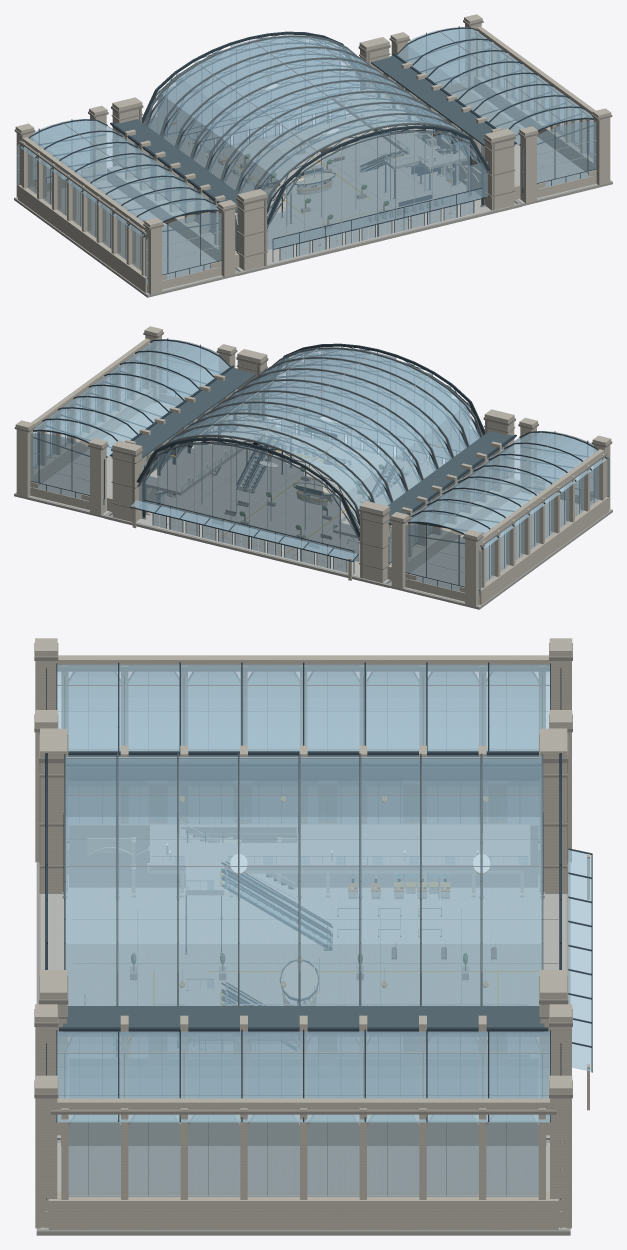
Rendered from RAIL02_lod2.glb.
3 renders of one model, top to bottom at view 1: azimuth 30°, elevation 25°; view 2: azimuth 150°, elevation 25°; view 3: azimuth 270°, elevation 25°, orthographic. The views are drawn at different scales.
Visible parts, largest first — view 1: Roof_CurvedGlazing__glass_roof, Facade_End_Clerestory__glass_dark, Roof_Pavilion_CurvedGlass__glass_roof, Interior_Stone_Floor__floor, Facade_Pavilion_Gables__glass_dark, Structure_Outer_Pavilion_Towers__stone, Interior_SidePavilion_Floor__floor, Roof_MainVault_Ribs__steel, Structure_SidePavilion_Piers__stone, Structure_Stone_Towers__stone, Roof_Wing_Coping__roof, Facade_Pavilion_SideGlazing__glass (+35 smaller); view 2: Roof_CurvedGlazing__glass_roof, Facade_End_Clerestory__glass_dark, Roof_Pavilion_CurvedGlass__glass_roof, Interior_Stone_Floor__floor, Facade_Pavilion_Gables__glass_dark, Structure_Outer_Pavilion_Towers__stone, Interior_SidePavilion_Floor__floor, Roof_MainVault_Ribs__steel, Structure_SidePavilion_Piers__stone, Structure_Stone_Towers__stone, Roof_Wing_Coping__roof, Facade_Pavilion_SideGlazing__glass (+35 smaller); view 3: Roof_CurvedGlazing__glass_roof, Roof_Pavilion_CurvedGlass__glass_roof, Facade_Pavilion_SideGlazing__glass, Interior_Stone_Floor__floor, Facade_Side_Glass__glass, Structure_Side_Stringers__concrete, Interior_SidePavilion_Floor__floor, Structure_SidePavilion_Plinth__stone, Structure_Outer_Pavilion_Towers__stone, Structure_Plinth__stone, Roof_Wing_Coping__roof, Structure_SidePavilion_LowVault_Crown__stone (+27 smaller).
Boxes of the visible parts, x1=… form: Roof_CurvedGlazing__glass_roof: x1=147, y1=37, x2=479, y2=200; Facade_End_Clerestory__glass_dark: x1=144, y1=35, x2=487, y2=249; Roof_Pavilion_CurvedGlass__glass_roof: x1=20, y1=28, x2=593, y2=236; Interior_Stone_Floor__floor: x1=206, y1=116, x2=516, y2=271; Facade_Pavilion_Gables__glass_dark: x1=17, y1=27, x2=596, y2=278; Structure_Outer_Pavilion_Towers__stone: x1=15, y1=14, x2=611, y2=294; Interior_SidePavilion_Floor__floor: x1=16, y1=90, x2=610, y2=294; Roof_MainVault_Ribs__steel: x1=144, y1=35, x2=479, y2=209; Structure_SidePavilion_Piers__stone: x1=22, y1=31, x2=589, y2=275; Structure_Stone_Towers__stone: x1=112, y1=37, x2=514, y2=270; Roof_Wing_Coping__roof: x1=111, y1=55, x2=514, y2=212; Facade_Pavilion_SideGlazing__glass: x1=28, y1=41, x2=593, y2=269; Roof_CurvedGlazing__glass_roof: x1=147, y1=349, x2=479, y2=512; Facade_End_Clerestory__glass_dark: x1=139, y1=347, x2=482, y2=561; Roof_Pavilion_CurvedGlass__glass_roof: x1=33, y1=340, x2=606, y2=548; Interior_Stone_Floor__floor: x1=110, y1=428, x2=421, y2=583; Facade_Pavilion_Gables__glass_dark: x1=30, y1=339, x2=609, y2=590; Structure_Outer_Pavilion_Towers__stone: x1=15, y1=326, x2=611, y2=606; Interior_SidePavilion_Floor__floor: x1=16, y1=402, x2=610, y2=606; Roof_MainVault_Ribs__steel: x1=147, y1=347, x2=482, y2=521; Structure_SidePavilion_Piers__stone: x1=37, y1=343, x2=604, y2=587; Structure_Stone_Towers__stone: x1=112, y1=349, x2=514, y2=582; Roof_Wing_Coping__roof: x1=112, y1=367, x2=515, y2=524; Facade_Pavilion_SideGlazing__glass: x1=33, y1=353, x2=598, y2=581; Roof_CurvedGlazing__glass_roof: x1=66, y1=756, x2=541, y2=1005; Roof_Pavilion_CurvedGlass__glass_roof: x1=57, y1=664, x2=549, y2=1122; Facade_Pavilion_SideGlazing__glass: x1=68, y1=672, x2=538, y2=1195; Interior_Stone_Floor__floor: x1=40, y1=875, x2=566, y2=1137; Facade_Side_Glass__glass: x1=66, y1=818, x2=541, y2=1097; Structure_Side_Stringers__concrete: x1=69, y1=824, x2=537, y2=1097; Interior_SidePavilion_Floor__floor: x1=40, y1=818, x2=566, y2=1230; Structure_SidePavilion_Plinth__stone: x1=48, y1=749, x2=558, y2=1230; Structure_Outer_Pavilion_Towers__stone: x1=35, y1=638, x2=572, y2=1228; Structure_Plinth__stone: x1=61, y1=837, x2=546, y2=1145; Roof_Wing_Coping__roof: x1=63, y1=755, x2=544, y2=1031; Structure_SidePavilion_LowVault_Crown__stone: x1=57, y1=655, x2=549, y2=1109.
Size of the model in its own units: 133 by 29.52 by 68.98.
Materials: 34 (34 with a texture image).
